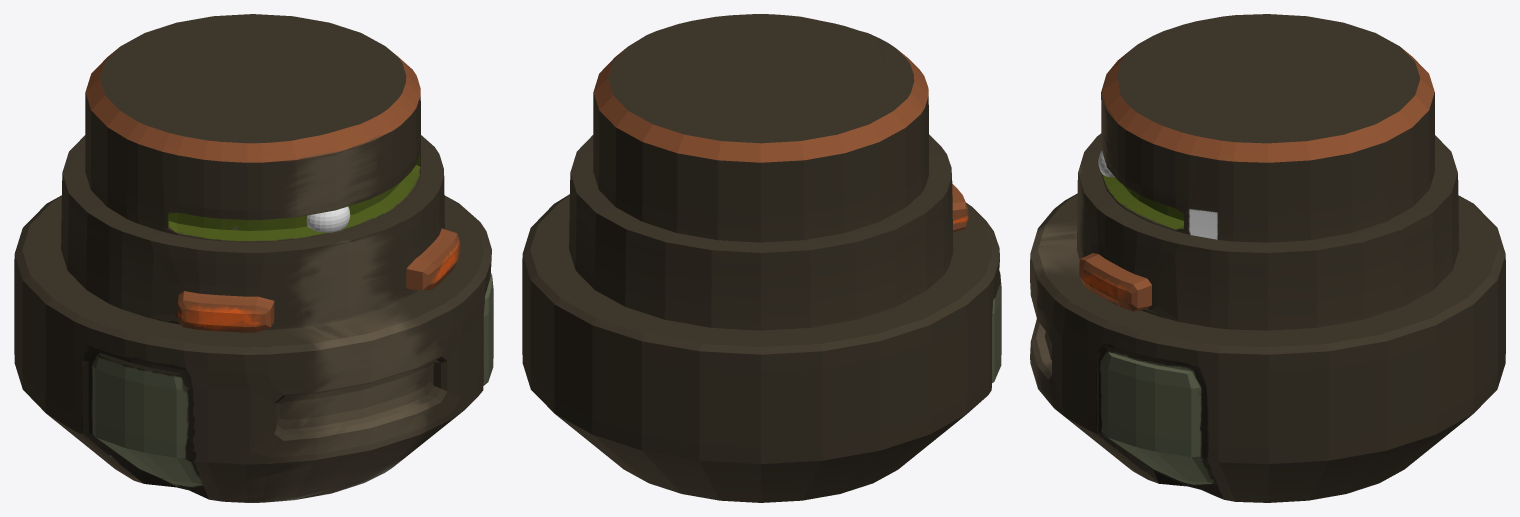
Rendered from enemy_02.fbx.
3 renders of one model, left to right at view 1: azimuth 30°, elevation 25°; view 2: azimuth 150°, elevation 25°; view 3: azimuth 270°, elevation 25°, orthographic.
Parts seen in each view (by area): view 1: enemy02, eye; view 2: enemy02; view 3: enemy02.
Boxes of the visible parts, x1,y1,x2,y2 form: enemy02: (14, 14, 493, 502); eye: (306, 206, 350, 232); enemy02: (522, 14, 1001, 502); enemy02: (1030, 14, 1505, 502).
Size of the model in its own units: 3.41 by 2.82 by 3.4.
